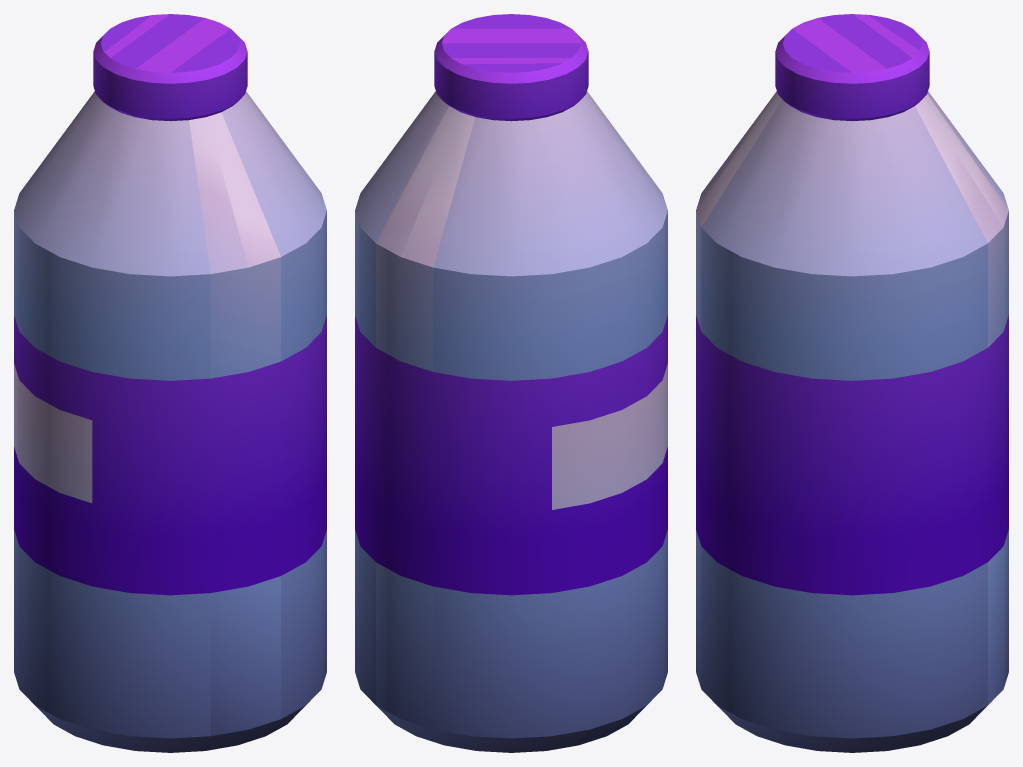
File: bottles.fbx
3 renders of one model, left to right at view 1: azimuth 30°, elevation 25°; view 2: azimuth 150°, elevation 25°; view 3: azimuth 270°, elevation 25°, orthographic.
Visible parts, largest first — view 1: plastic_bottle4; view 2: plastic_bottle4; view 3: plastic_bottle4.
Boxes of the visible parts, x1=… form: plastic_bottle4: x1=14, y1=14, x2=326, y2=752; plastic_bottle4: x1=355, y1=14, x2=667, y2=752; plastic_bottle4: x1=696, y1=14, x2=1008, y2=752.
Bounding box in the file's own units: 14.99 × 34.5 × 14.99.
